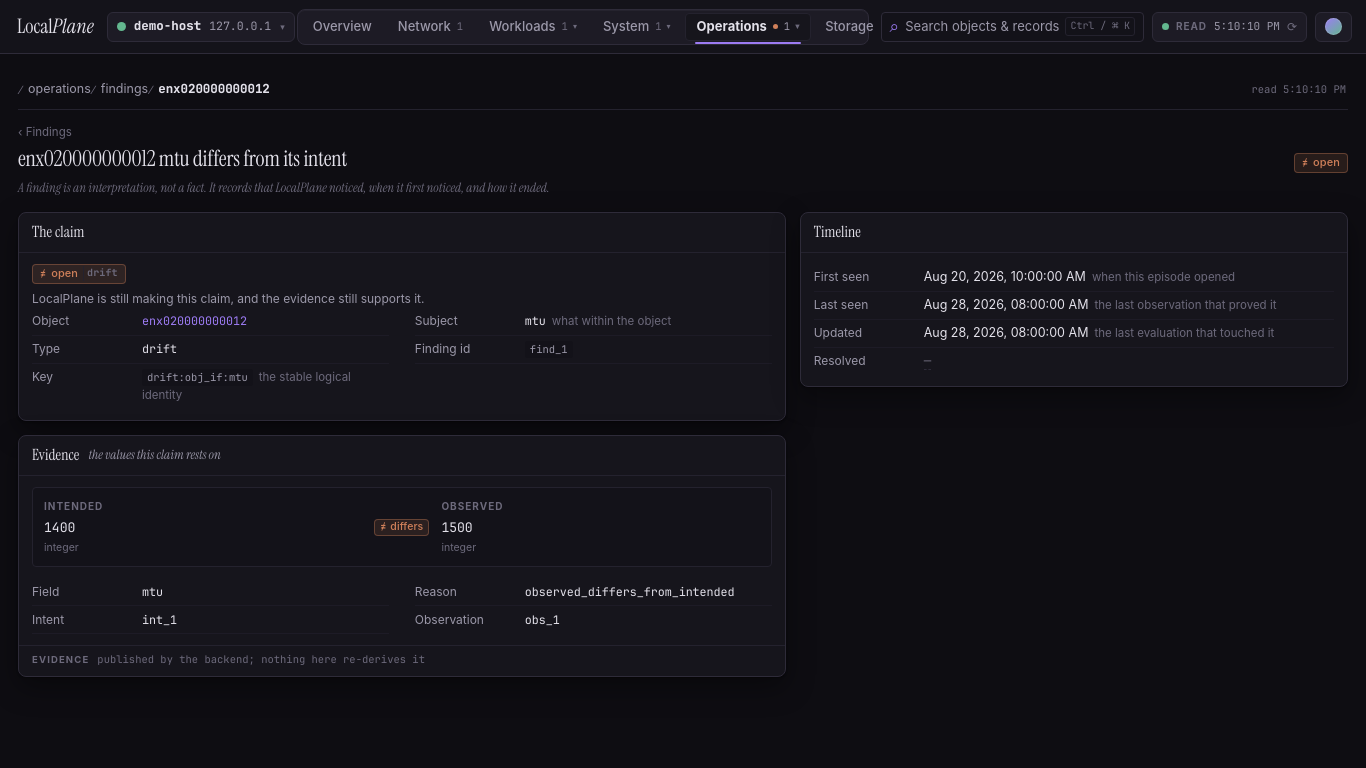
Scenario: finding detail › activates an encoded object link to the existing detail route
This screenshot has width=1366, height=768.
Click the link "enx020000000012" at (194, 321), box [142,313,247,329]
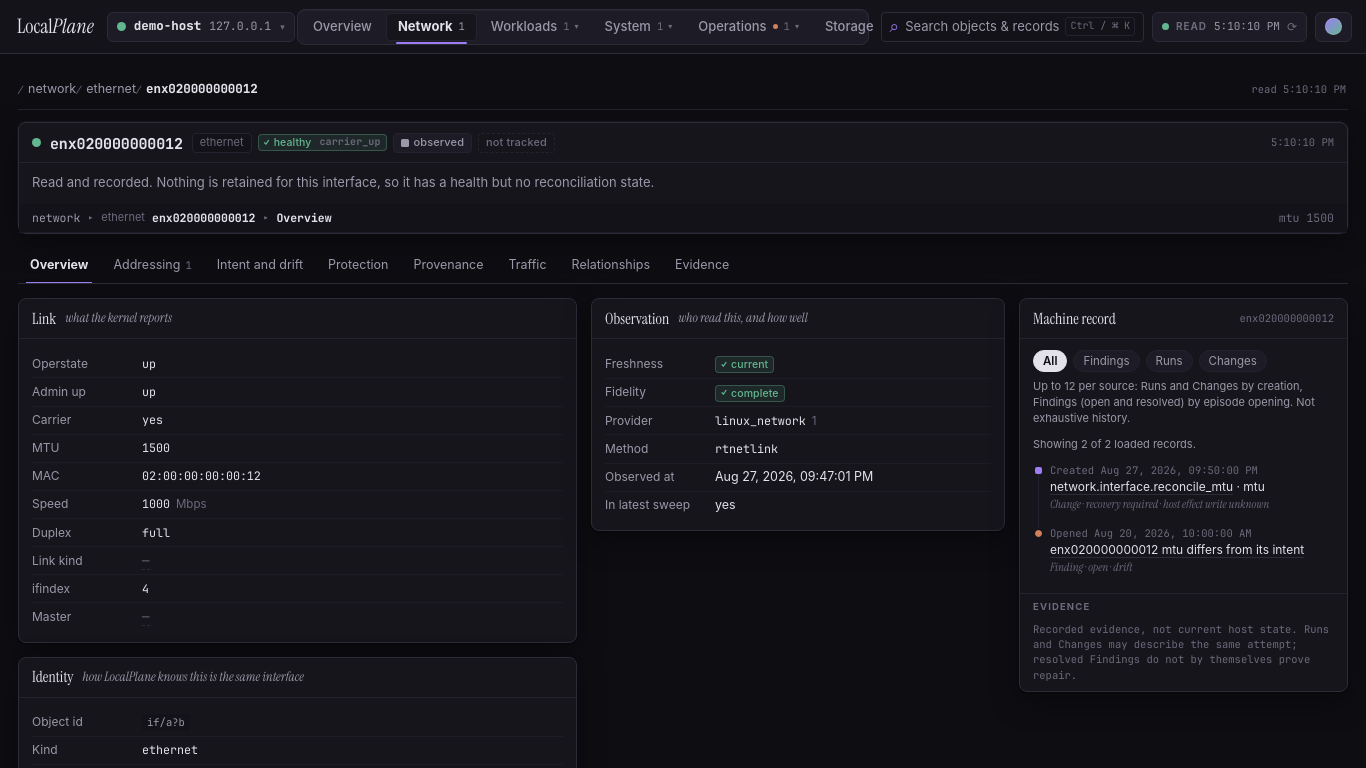
Check: the heading "Link" is shown, box [32,310,56,328]
Check: the text "if/a?b" is shown, box [142,714,190,731]
